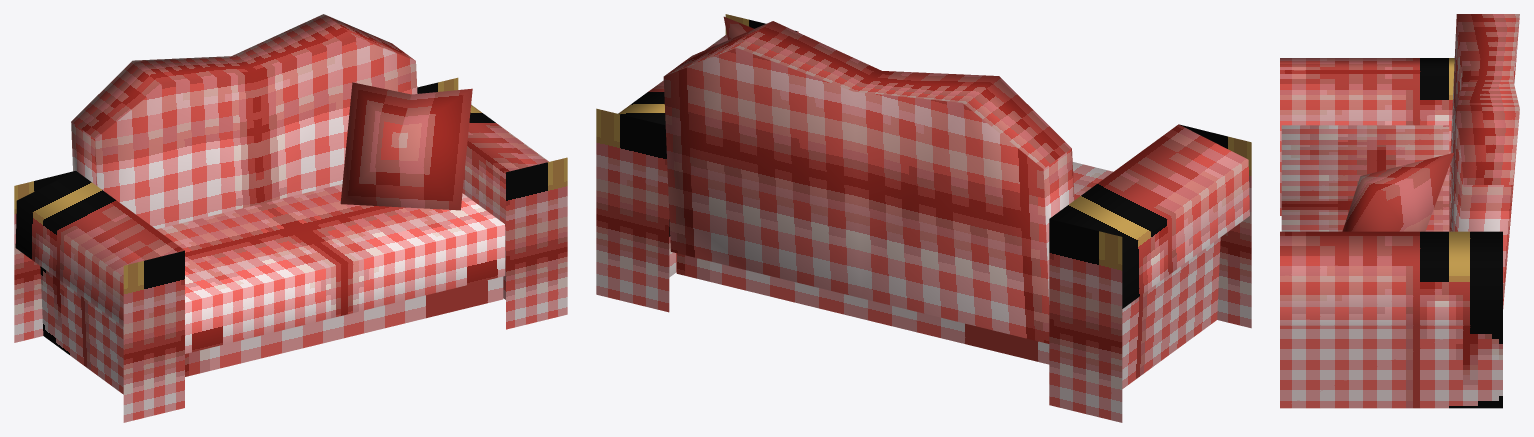
3 renders of one model, left to right at view 1: azimuth 30°, elevation 25°; view 2: azimuth 150°, elevation 25°; view 3: azimuth 270°, elevation 25°, orthographic. The views are drawn at different scales.
Visible parts, largest first — view 1: 3063IMRL04_04; view 2: 3063IMRL04_04; view 3: 3063IMRL04_04.
Boxes of the visible parts, left/top/right/bottom form: 3063IMRL04_04: left=14, top=14, right=567, bottom=422; 3063IMRL04_04: left=596, top=14, right=1251, bottom=422; 3063IMRL04_04: left=1280, top=14, right=1519, bottom=408.
Bounding box in the file's own units: 1.95 × 1.03 × 0.8948.
1 material, 1 textured.
